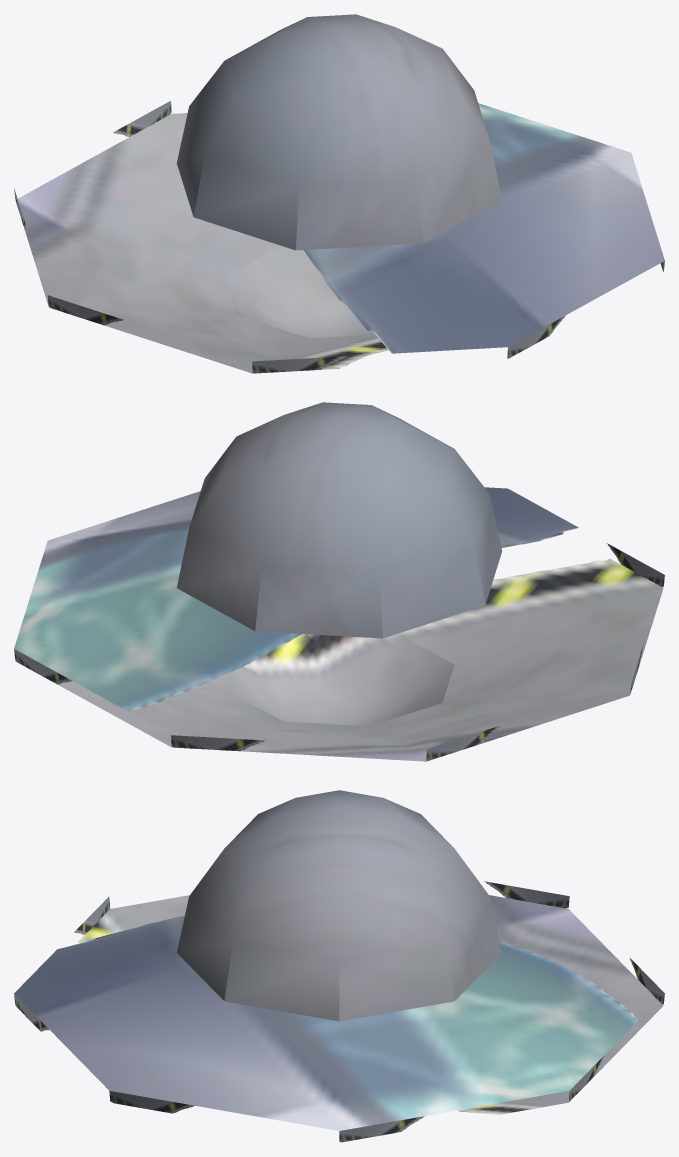
File: ufo.fbx
The picture shows the model from 3 angles, top to bottom: view 1: azimuth 30°, elevation 25°; view 2: azimuth 150°, elevation 25°; view 3: azimuth 270°, elevation 25°; orthographic projection. The views are drawn at different scales.
Parts seen in each view (by area): view 1: ufo; view 2: ufo; view 3: ufo.
Part boxes in pixels (x1,y1,x2,y2): ufo: (14,14,664,373); ufo: (14,402,664,761); ufo: (14,790,664,1142).
Size of the model in its own units: 245 by 122 by 245.
